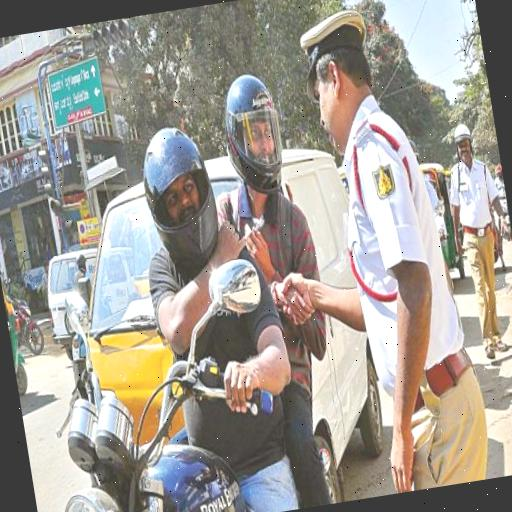helmet: (73, 86, 291, 512)
